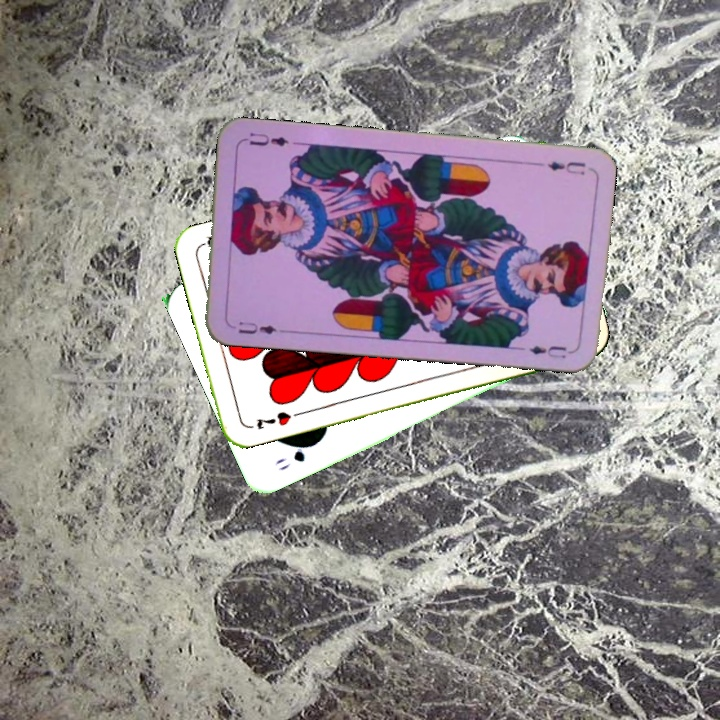EU: (234, 318, 286, 338), (544, 157, 588, 178)
GO: (272, 438, 320, 474)
H7: (252, 407, 294, 432)
